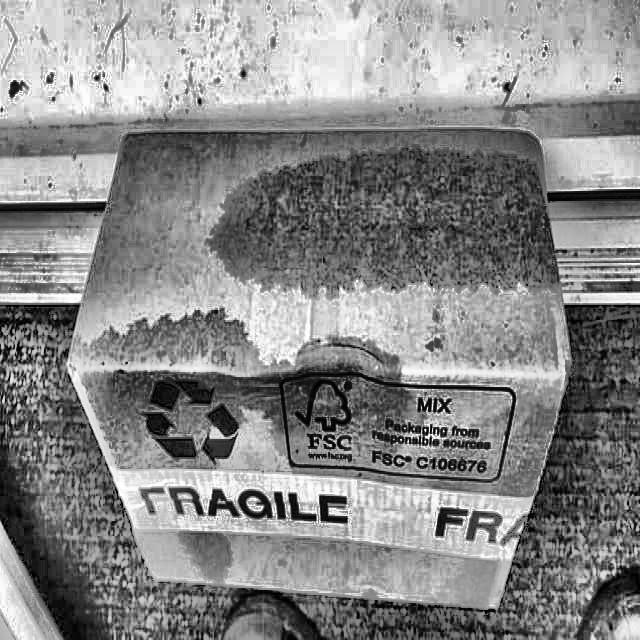box: (49, 121, 590, 622)
wet: (217, 146, 547, 305), (83, 318, 405, 474)
